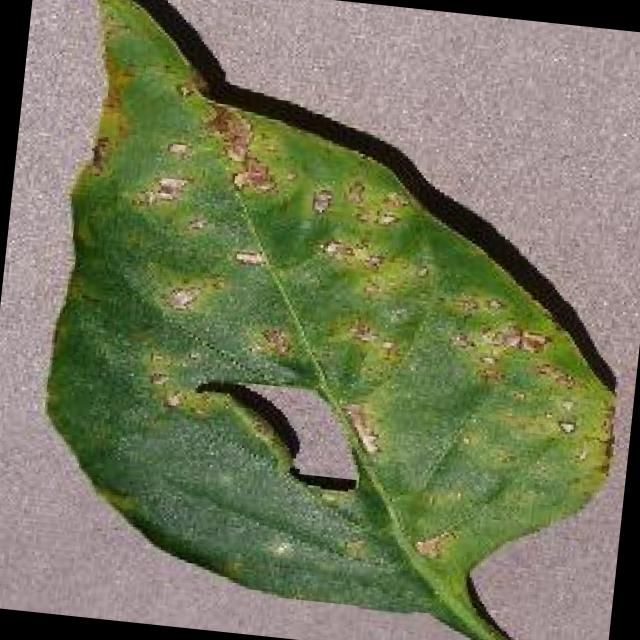Chilli_Bacterial_Spot: (16, 0, 640, 640), (193, 99, 287, 202), (125, 164, 192, 216), (225, 152, 282, 200), (406, 520, 462, 566), (492, 318, 554, 359), (246, 318, 297, 362), (160, 278, 203, 315), (149, 169, 192, 206), (228, 242, 270, 272), (304, 183, 336, 218), (161, 135, 193, 161), (552, 412, 579, 438)
